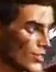kevin: (2, 1, 49, 71)
